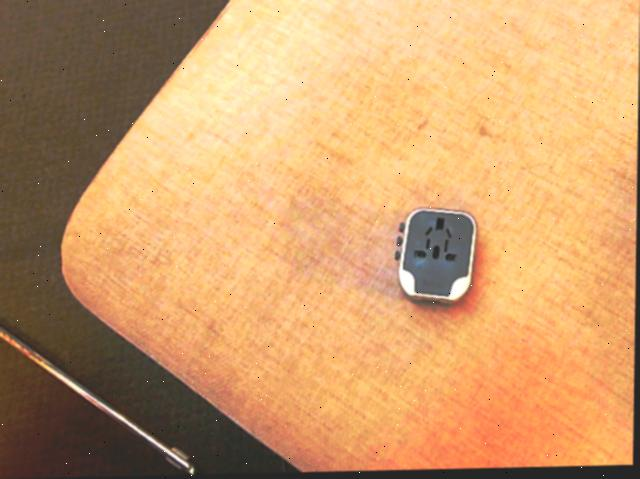adapter: (395, 208, 477, 307)
